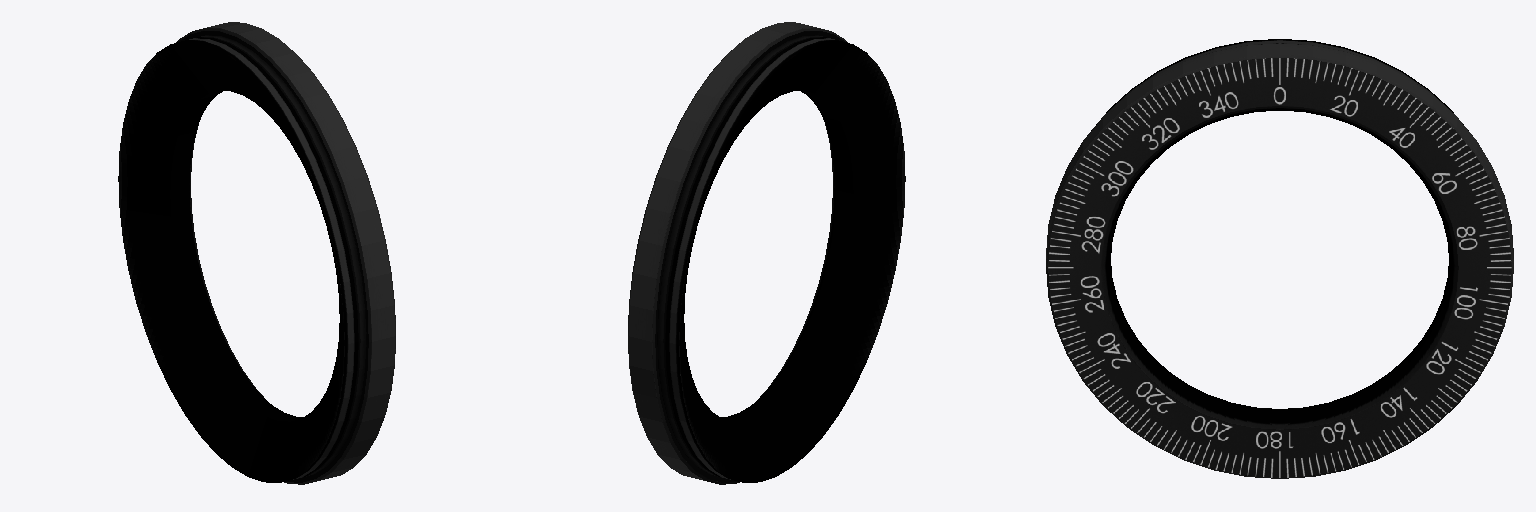
The picture shows the model from 3 angles: view 1: azimuth 30°, elevation 25°; view 2: azimuth 150°, elevation 25°; view 3: azimuth 270°, elevation 25°; orthographic projection.
Parts seen in each view (by area): view 1: polySurface1013 pCylinder133; view 2: polySurface1013 pCylinder133; view 3: polySurface1013 pCylinder133.
Part boxes in pixels (x1,y1,x2,y2): polySurface1013 pCylinder133: (118, 22, 395, 484); polySurface1013 pCylinder133: (628, 22, 905, 484); polySurface1013 pCylinder133: (1046, 39, 1513, 478).
Size of the model in its own units: 6.34 by 52.9 by 52.9.
1 materials, 1 textured.